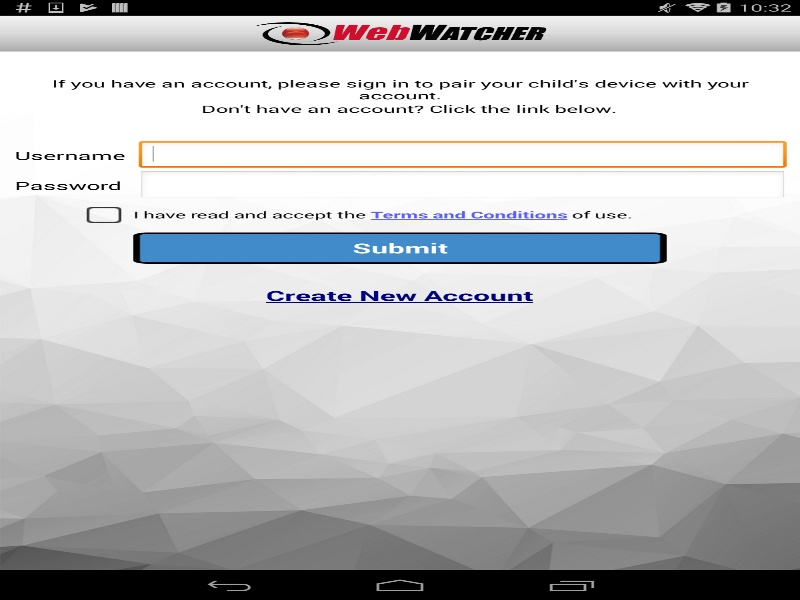Input: (138, 140, 786, 170), (138, 170, 786, 200)
